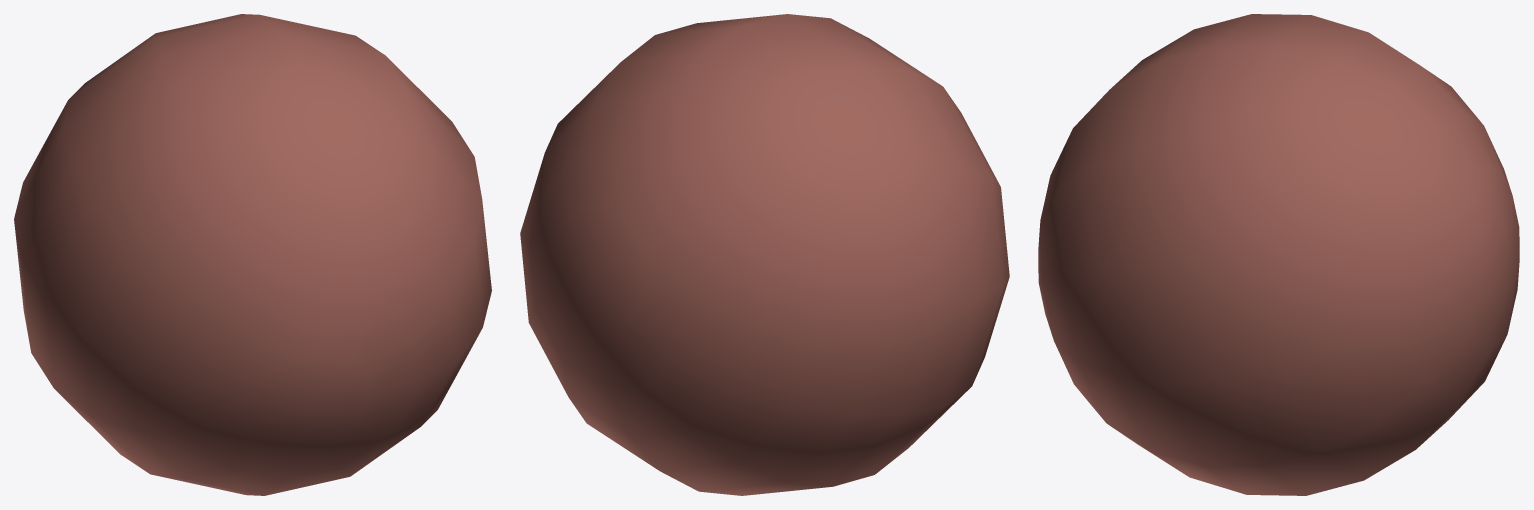
File: mixamo_humanoid_joint_rightHandRing3.fbx
3 renders of one model, left to right at view 1: azimuth 30°, elevation 25°; view 2: azimuth 150°, elevation 25°; view 3: azimuth 270°, elevation 25°, orthographic.
Visible parts, largest first — view 1: joint_RightHandRing3; view 2: joint_RightHandRing3; view 3: joint_RightHandRing3.
Part boxes in pixels (x1=…): joint_RightHandRing3: x1=14, y1=14, x2=491, y2=495; joint_RightHandRing3: x1=520, y1=14, x2=1009, y2=495; joint_RightHandRing3: x1=1038, y1=14, x2=1519, y2=495.
Bounding box in the file's own units: 1.7 × 1.69 × 1.69.
